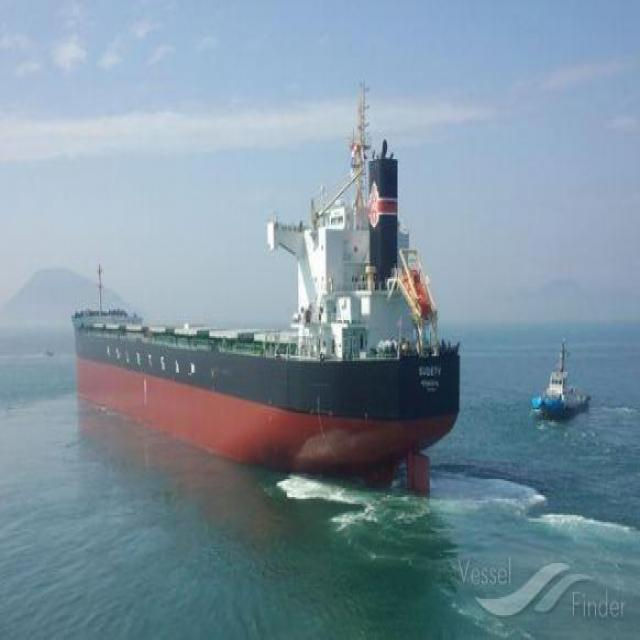OCR: (99, 339, 197, 373), (412, 360, 444, 402)
